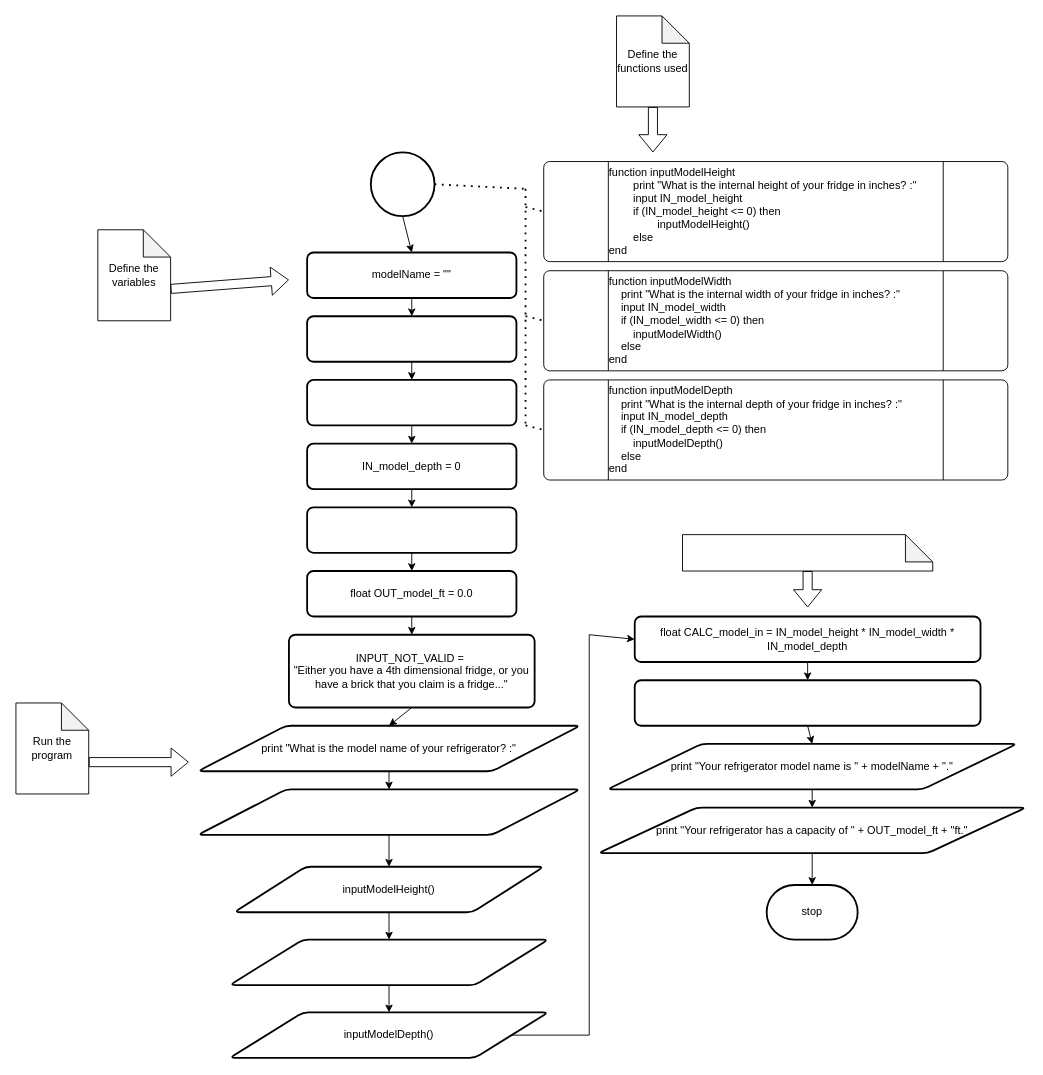
Some shapes in this 1043 by 1075 pixel diagram are drawn without their labels. The shapes that lost their labels are listed below. From the top down, each one's box as (x1, y1, x2, y2) in pixels, then its label:
(369, 151, 435, 217): start
(306, 315, 517, 362): IN_model_height = 0
(306, 379, 517, 426): IN_model_width = 0
(306, 506, 517, 553): float CALC_model_in = 0.0
(682, 534, 933, 571): Calculate the cubic inches and feet
(633, 679, 981, 726): float OUT_model_ft = CALC_model_in / 1728
(197, 788, 581, 835): input modelName
(228, 938, 549, 986): inputModelWidth()
